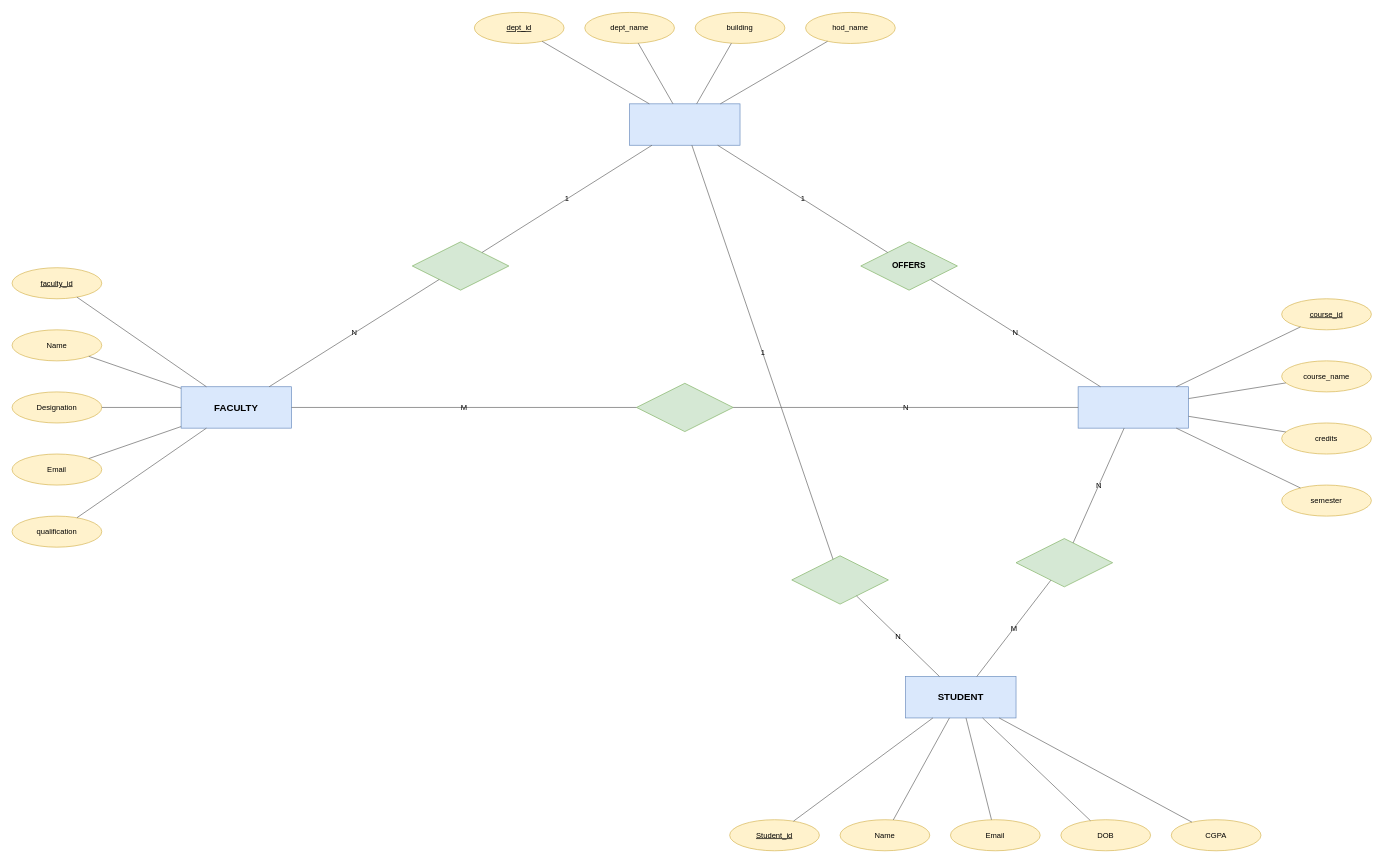
Some shapes in this 1383 by 863 pixel diagram are drawn without their labels. Here are the shapes that lost their labels. From the top down, the box of each, then its label:
(629, 103, 740, 145): DEPARTMENT
(412, 241, 509, 290): EMPLOYS
(636, 383, 733, 432): TEACHES
(1077, 386, 1189, 428): COURSE
(791, 555, 888, 604): ADMITS
(1015, 538, 1113, 587): ENROLLS_IN
